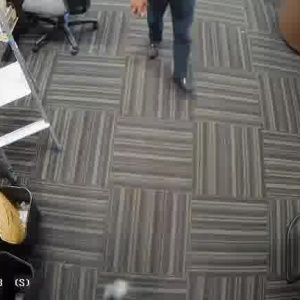person: (145, 0, 200, 95)
